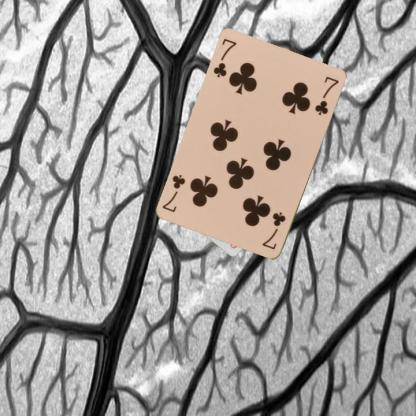7c: (211, 36, 238, 80), (260, 209, 287, 251)
